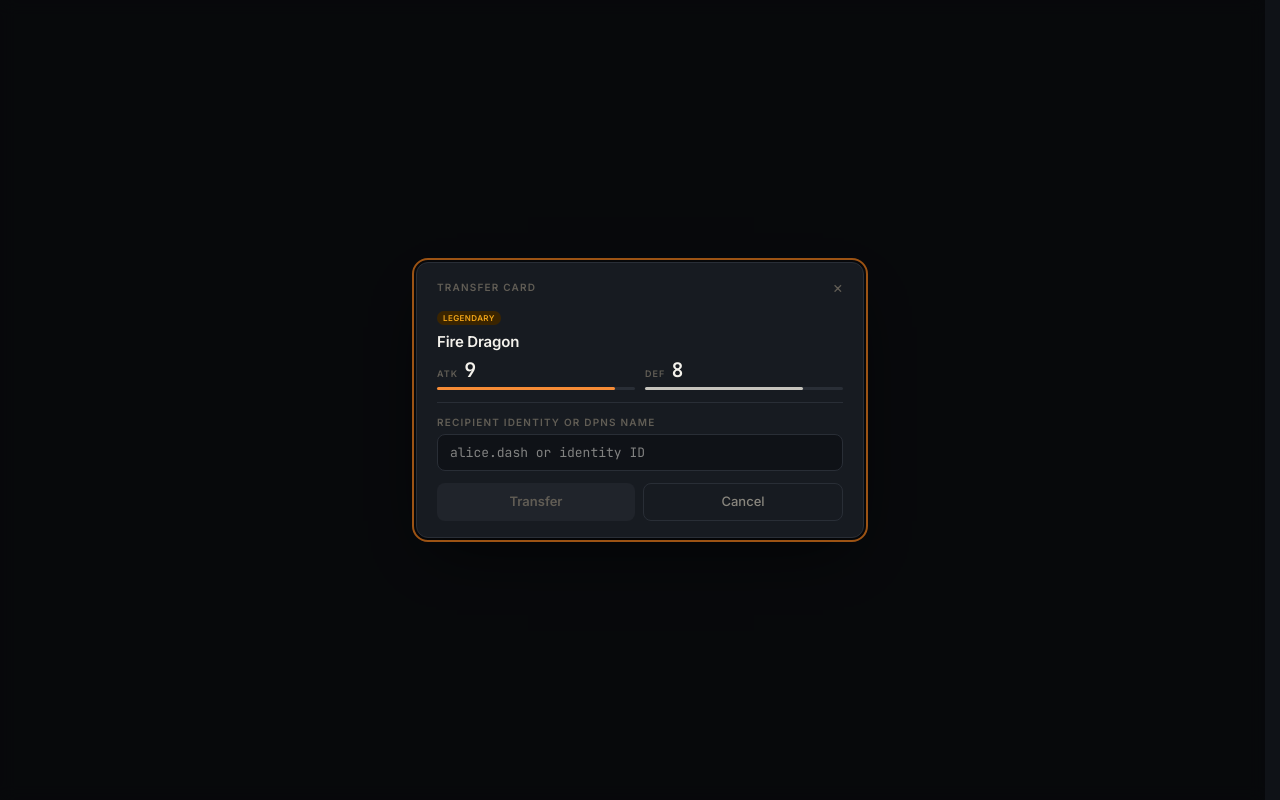
Test: TransferModal › shows an inline error and stays open when transfer fails
The width and height of the screenshot is (1280, 800).
Type "5LmvdJbGAtnk2Z3y5bwa2YcX9hk5GhVePtkT21a2mxAn" into the field labelled "Recipient identity or DPNS name".
click(640, 452); type("5LmvdJbGAtnk2Z3y5bwa2YcX9hk5GhVePtkT21a2mxAn")  # box [437,434,843,471]
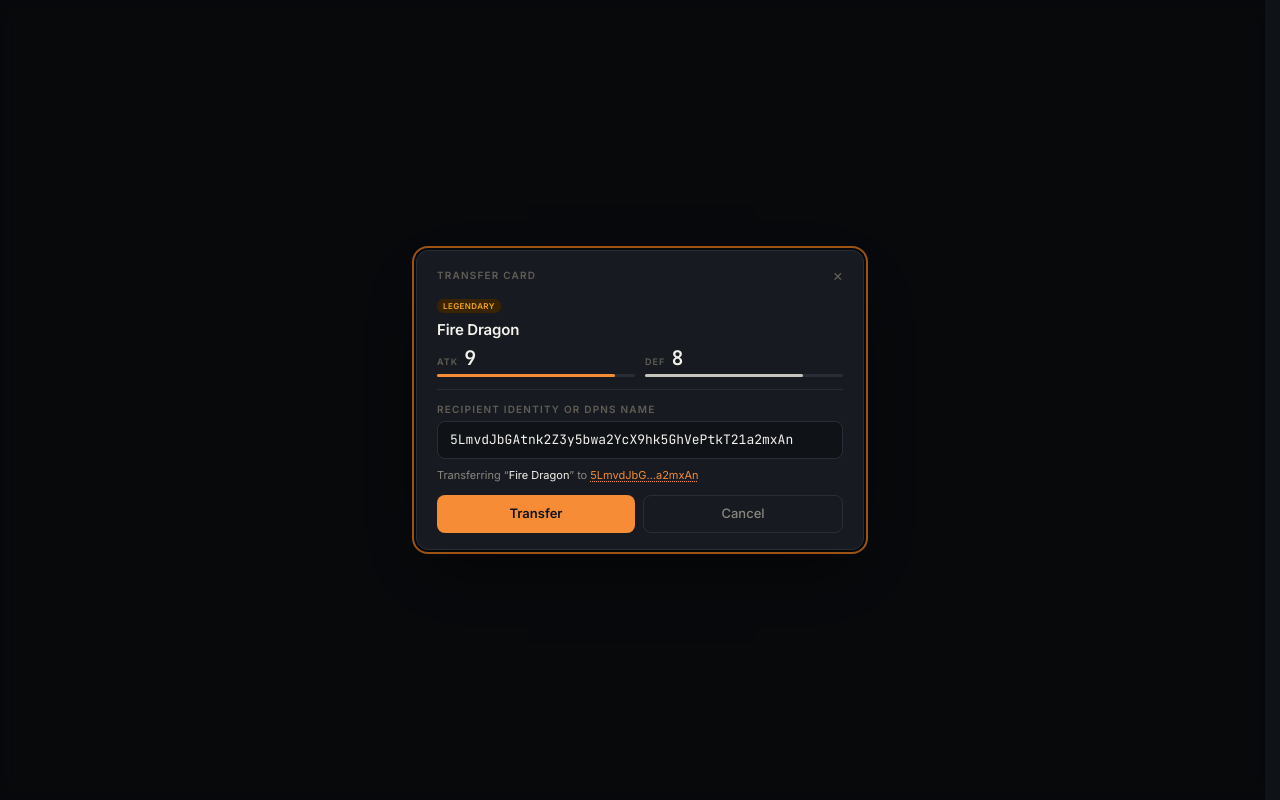
Click the button "Transfer".
click(536, 514)  # box [437,495,635,533]
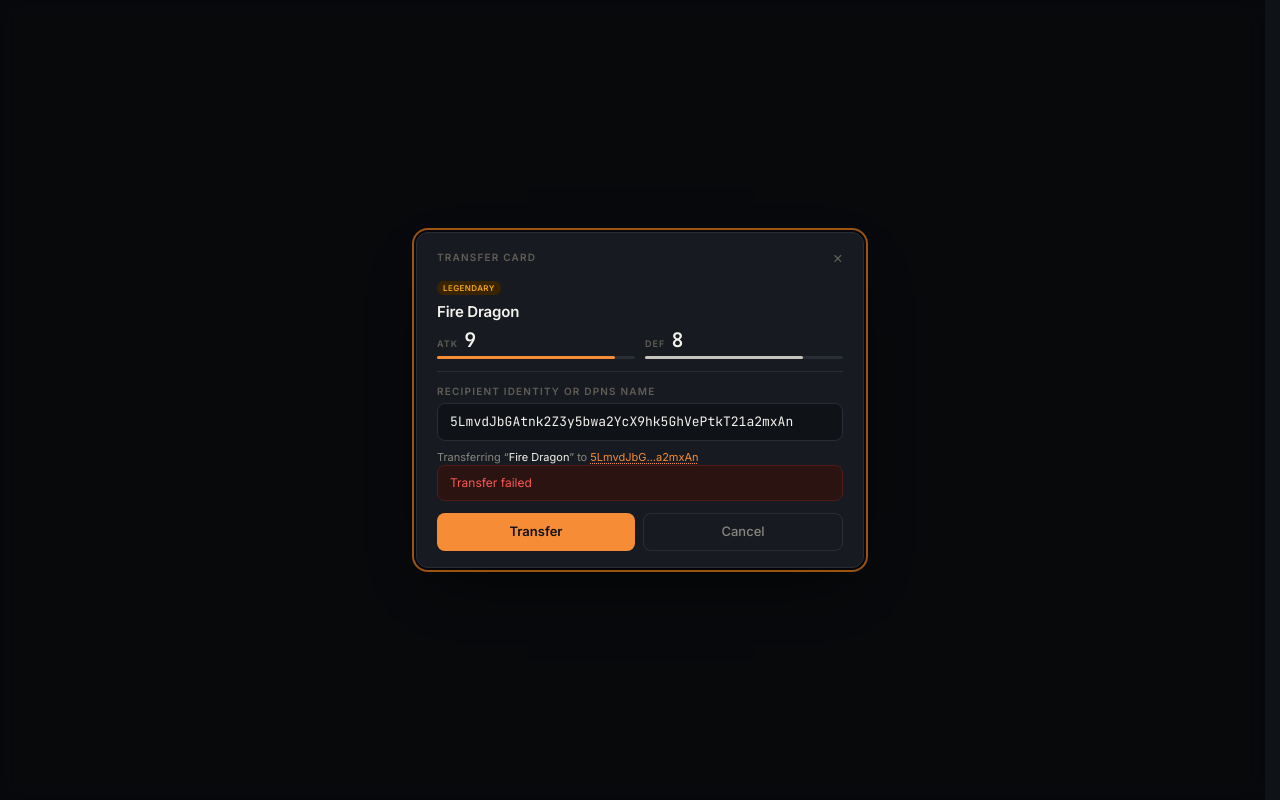
Expected: the message reads "Transfer failed", [450,475,532,490]
